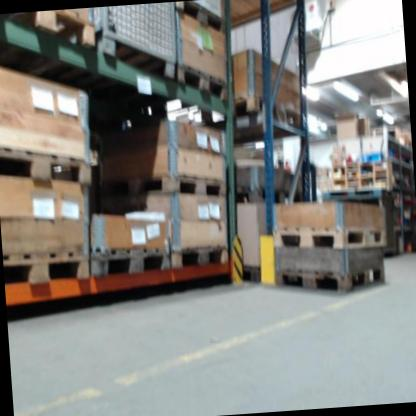pallet: (100, 167, 229, 207), (0, 139, 93, 193), (275, 259, 392, 299), (274, 221, 389, 257), (17, 7, 96, 55), (3, 246, 92, 286), (90, 243, 171, 278), (175, 61, 231, 107), (174, 0, 227, 39), (171, 243, 230, 270)
stillage: (77, 2, 184, 92)
